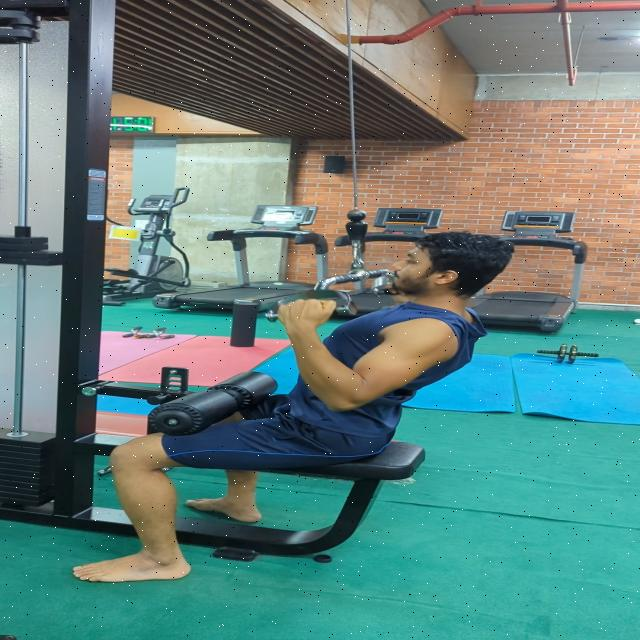Normal_LatPulldown: (59, 222, 542, 590)
